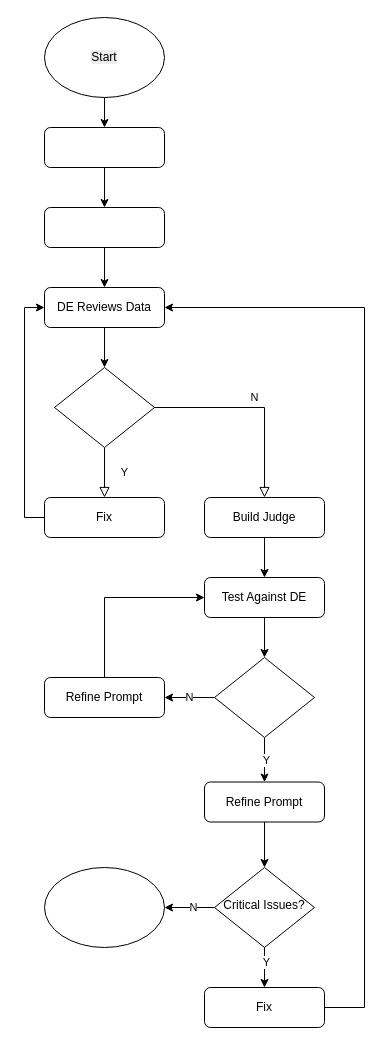
Image size: 390x1045. Some labels were removed from this diagram. The centre of each missing label's shape, as x and y in pixels:
Create Dataset: pixel 104 227
Done: pixel 104 907
Errors?: pixel 104 407
Find Domain Expert: pixel 104 147
OK?: pixel 264 697
